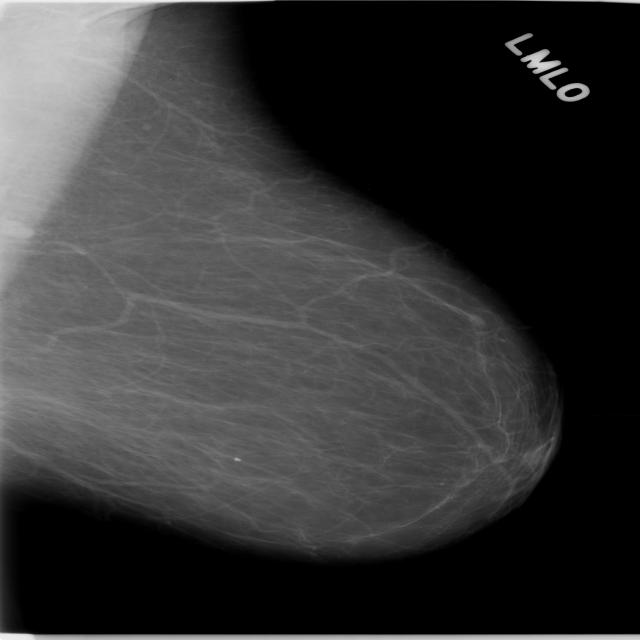normal: (0, 0, 565, 567)
